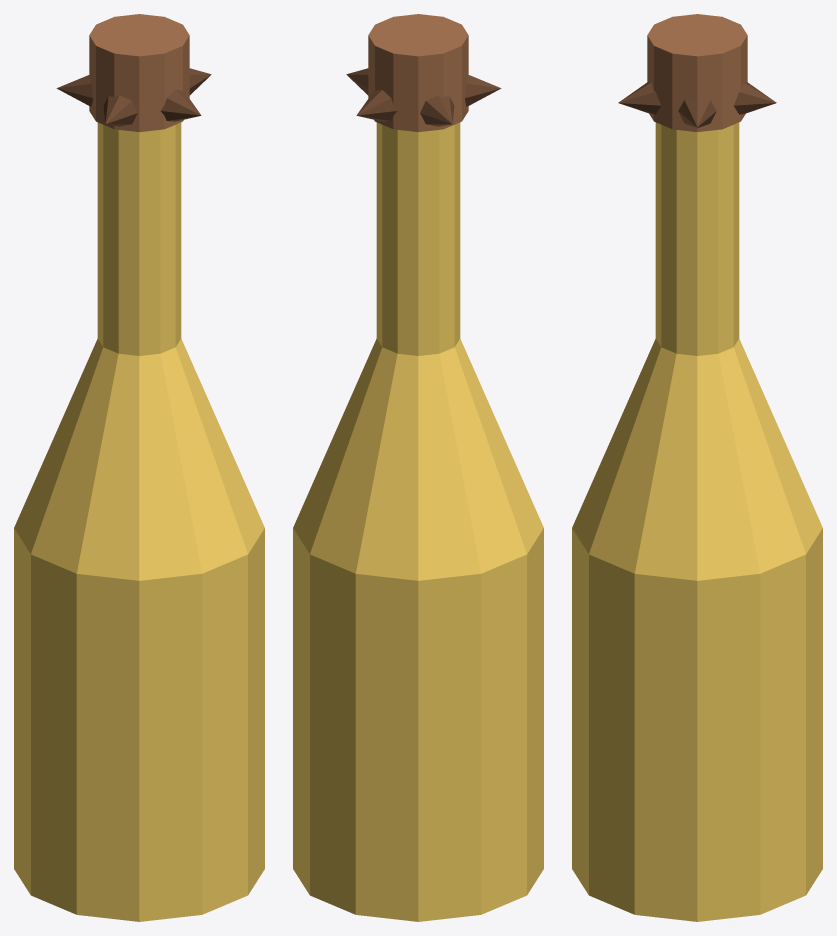
File: bottle_skin_2.glb
3 views of the same model, side by side, from view 1: azimuth 30°, elevation 25°; view 2: azimuth 150°, elevation 25°; view 3: azimuth 270°, elevation 25° (orthographic).
Visible parts, largest first — view 1: bottle_skin_2; view 2: bottle_skin_2; view 3: bottle_skin_2.
Part boxes in pixels (x1,y1,x2,y2): bottle_skin_2: (14, 14, 264, 921); bottle_skin_2: (293, 14, 543, 921); bottle_skin_2: (572, 14, 822, 921).
Size of the model in its own units: 0.5455 by 2 by 0.5455.
